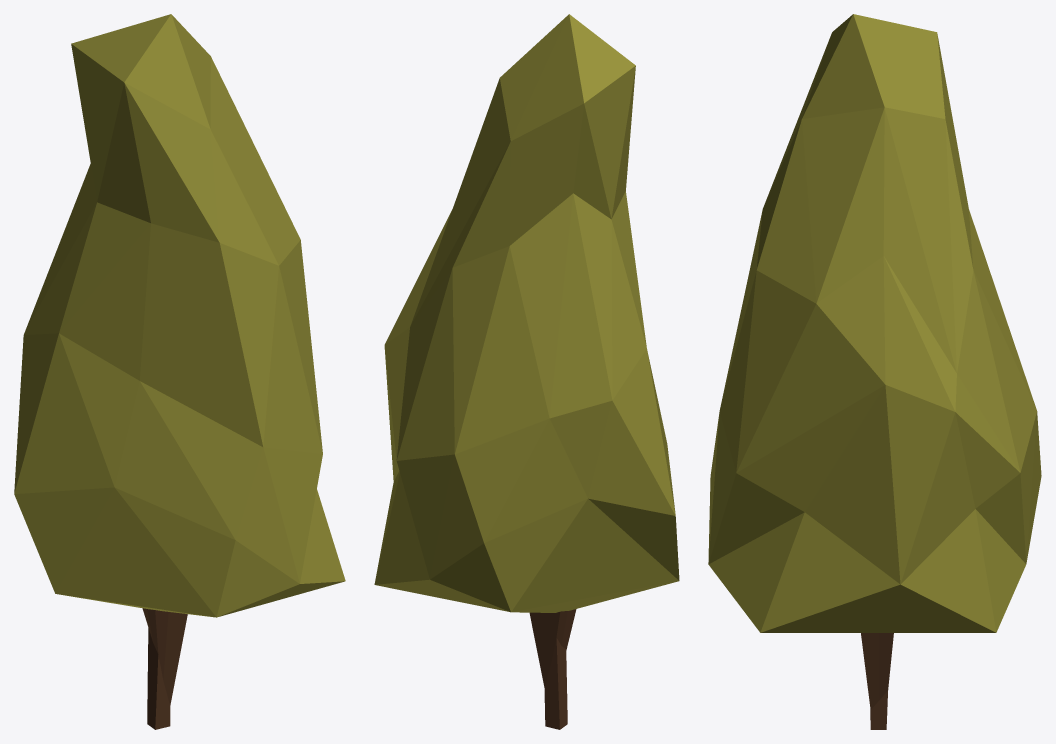
Rendered from Tree_20_Yellow.fbx.
3 renders of one model, left to right at view 1: azimuth 30°, elevation 25°; view 2: azimuth 150°, elevation 25°; view 3: azimuth 270°, elevation 25°, orthographic. The views are drawn at different scales.
Parts seen in each view (by area): view 1: Tree_20_Yellow_Part_1, Tree_20_Yellow_Part_2; view 2: Tree_20_Yellow_Part_1, Tree_20_Yellow_Part_2; view 3: Tree_20_Yellow_Part_1, Tree_20_Yellow_Part_2.
Part boxes in pixels (x1,y1,x2,y2): Tree_20_Yellow_Part_1: [14, 14, 345, 617]; Tree_20_Yellow_Part_2: [142, 608, 187, 729]; Tree_20_Yellow_Part_1: [374, 14, 679, 612]; Tree_20_Yellow_Part_2: [529, 609, 576, 729]; Tree_20_Yellow_Part_1: [708, 14, 1041, 632]; Tree_20_Yellow_Part_2: [861, 633, 893, 729].
Bounding box in the file's own units: 332 × 789 × 334.
